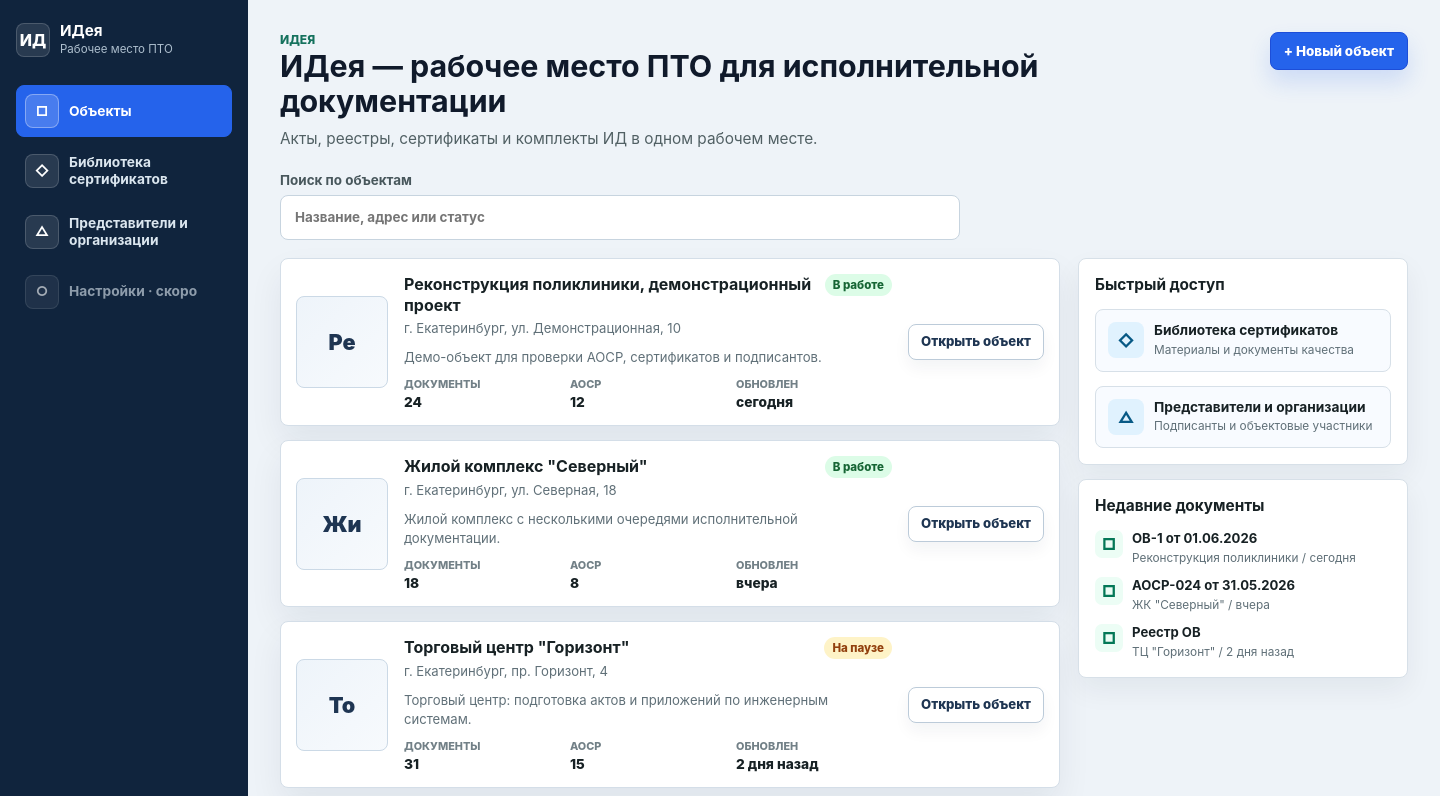
Test: App shell mock navigation › renders object workspace navigation with one clear overview path
Click the 1st link "Открыть объект" at (976,342), box [908,324,1044,360]
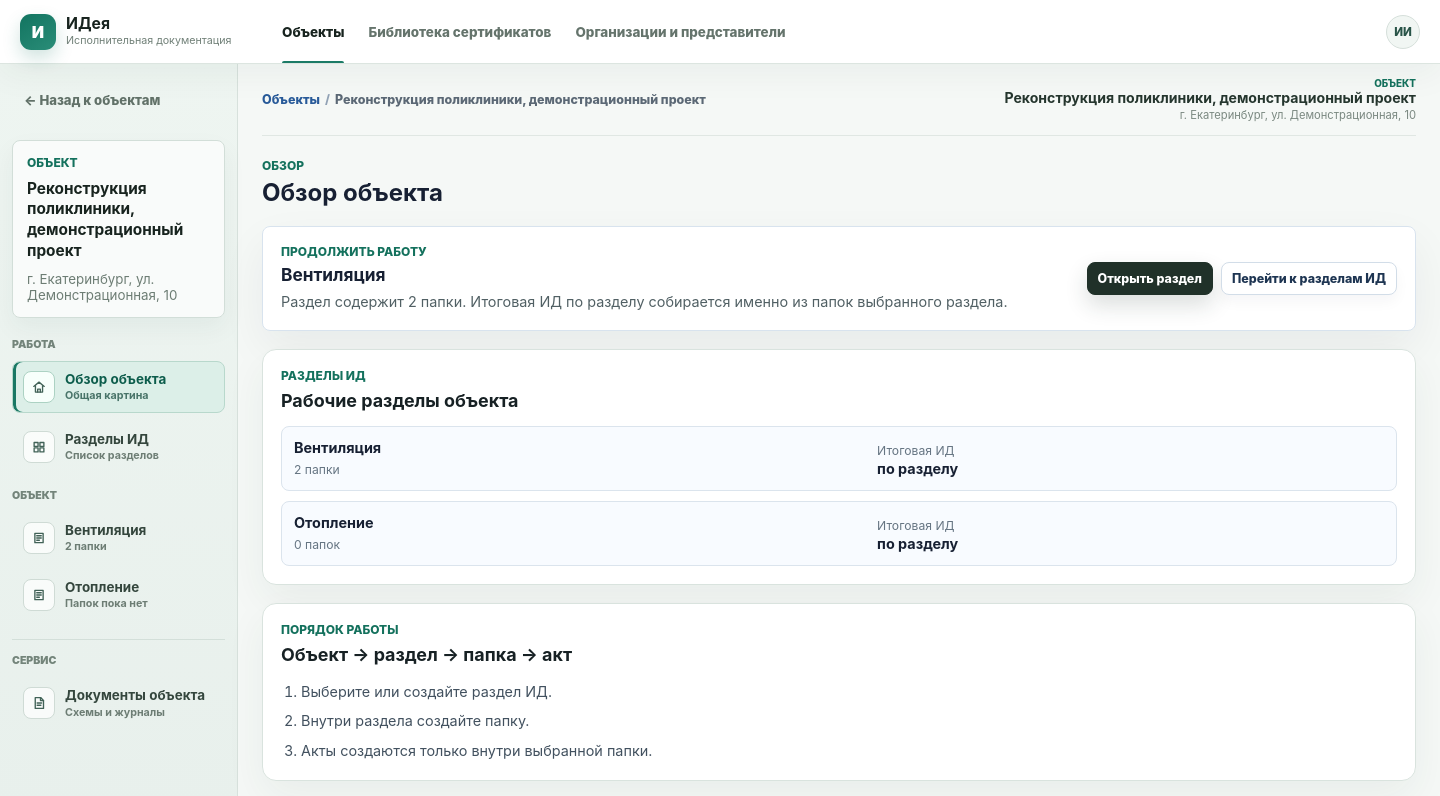
Expected: the text "Работа" is shown, [12,338,56,351]
Expected: the text "Сервис" is shown, [12,654,56,667]
Expected: the link "Обзор объекта Общая картина" is shown, [12,361,225,413]
Click the link with aria-label "Открыть раздел Вентиляция" at (85,538), box [23,522,146,554]
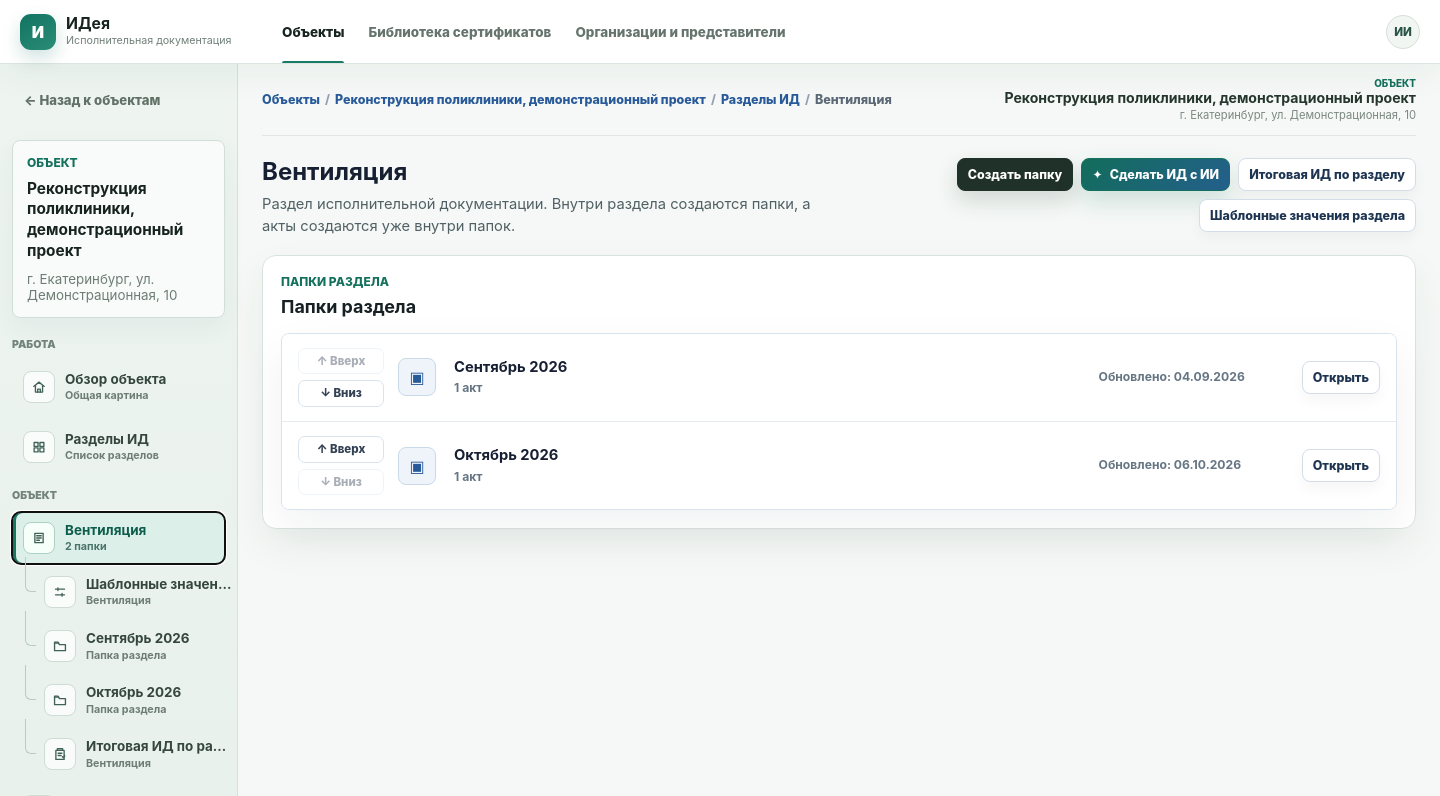
Expected: the link "Шаблонные значения раздела Вентиляция" is shown, [34,566,243,618]
Expected: the link with aria-label "Открыть папку Сентябрь 2026" is shown, [44,630,189,662]
Expected: the link with aria-label "Открыть папку Октябрь 2026" is shown, [44,684,181,716]
Click the link "Обзор объекта Общая картина" at (95,387), box [23,371,166,403]
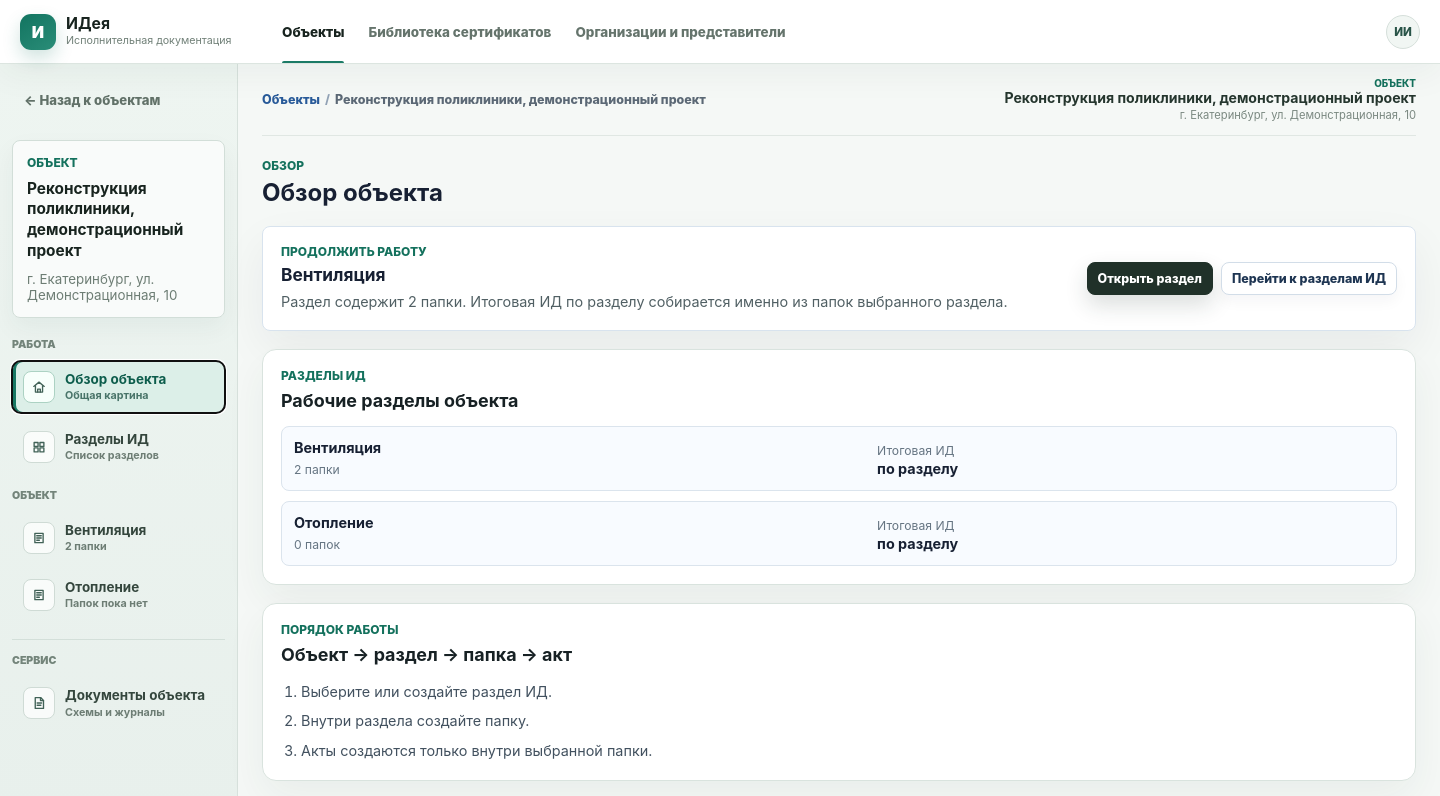
Expected: the heading "Реконструкция поликлиники, демонстрационный проект" is shown, [1004,90,1416,106]
Expected: the heading "Вентиляция" is shown, [281,264,386,285]
Expected: the text "Итоговая ИД по разделу собирается именно из папок выбранного раздела" is shown, [462,293,1008,310]
Click the link "Перейти к разделам ИД" at (1309,279), box [1221,262,1397,295]
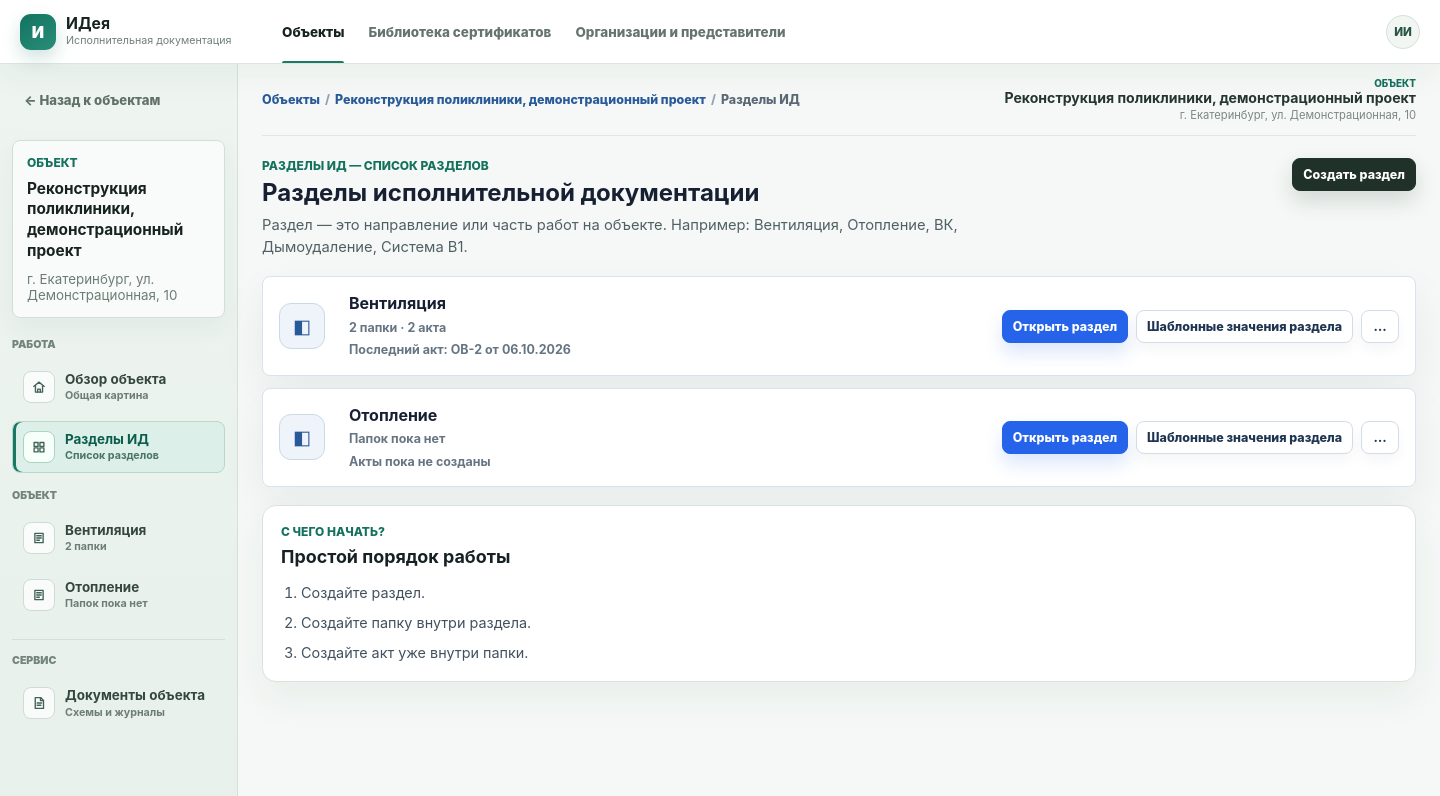
Expected: the link with aria-label "Открыть раздел" is shown, [23,522,146,554]
Expected: the heading "Разделы исполнительной документации" is shown, [262,178,759,207]
Expected: the text "2 папки · 2 акта" is shown, [349,320,446,335]
Click the link with aria-label "Открыть раздел Вентиляция" at (1065,326), box [1002,310,1128,343]
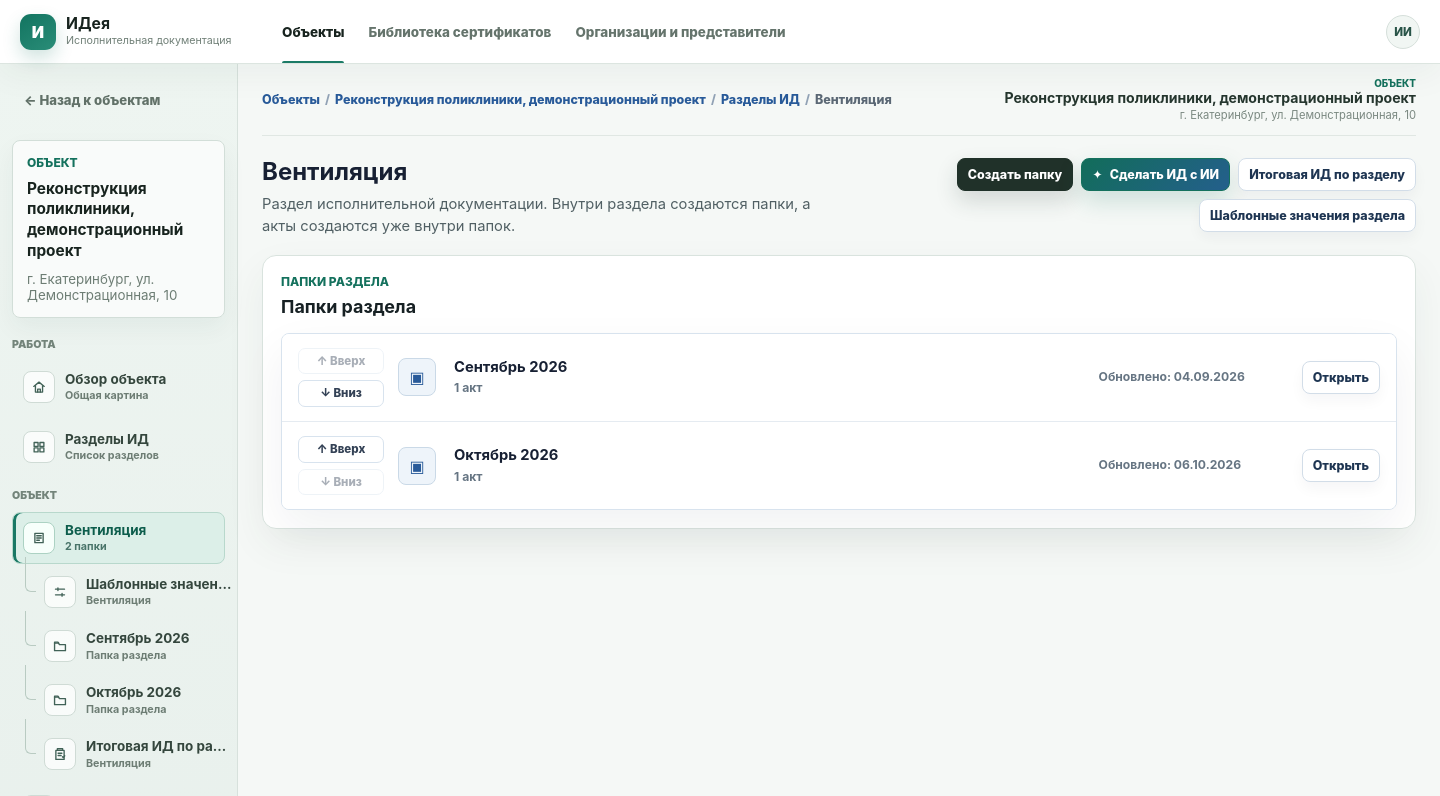
Expected: the heading "Вентиляция" is shown, [262,157,407,186]
Expected: the button "Создать папку" is shown, [957,158,1073,191]
Expected: the link "Итоговая ИД по разделу Вентиляция" is shown, [34,728,243,780]
